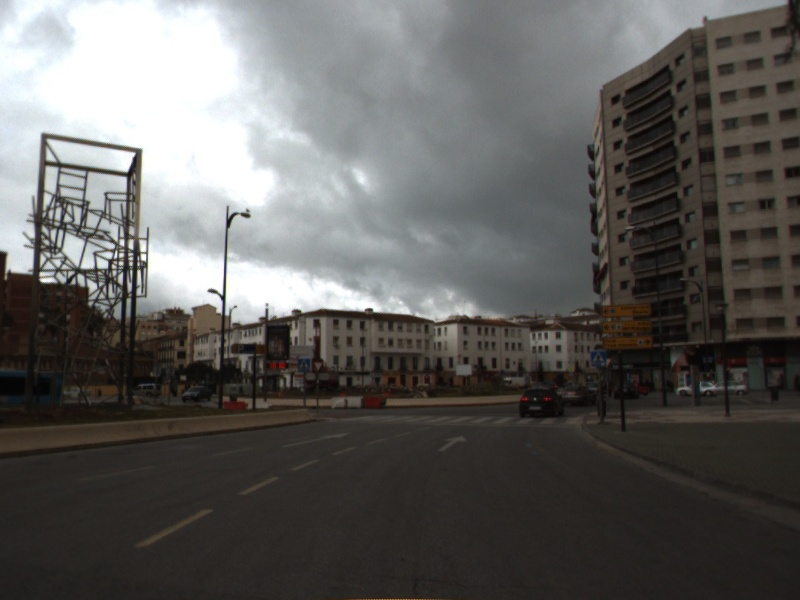STRAIGHT: (279, 430, 351, 450), (435, 434, 469, 454)
